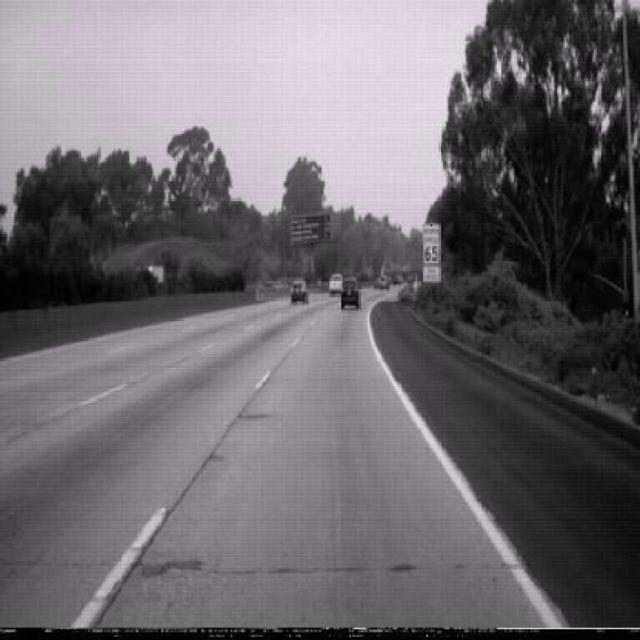speedLimit65: (423, 222, 440, 265)
